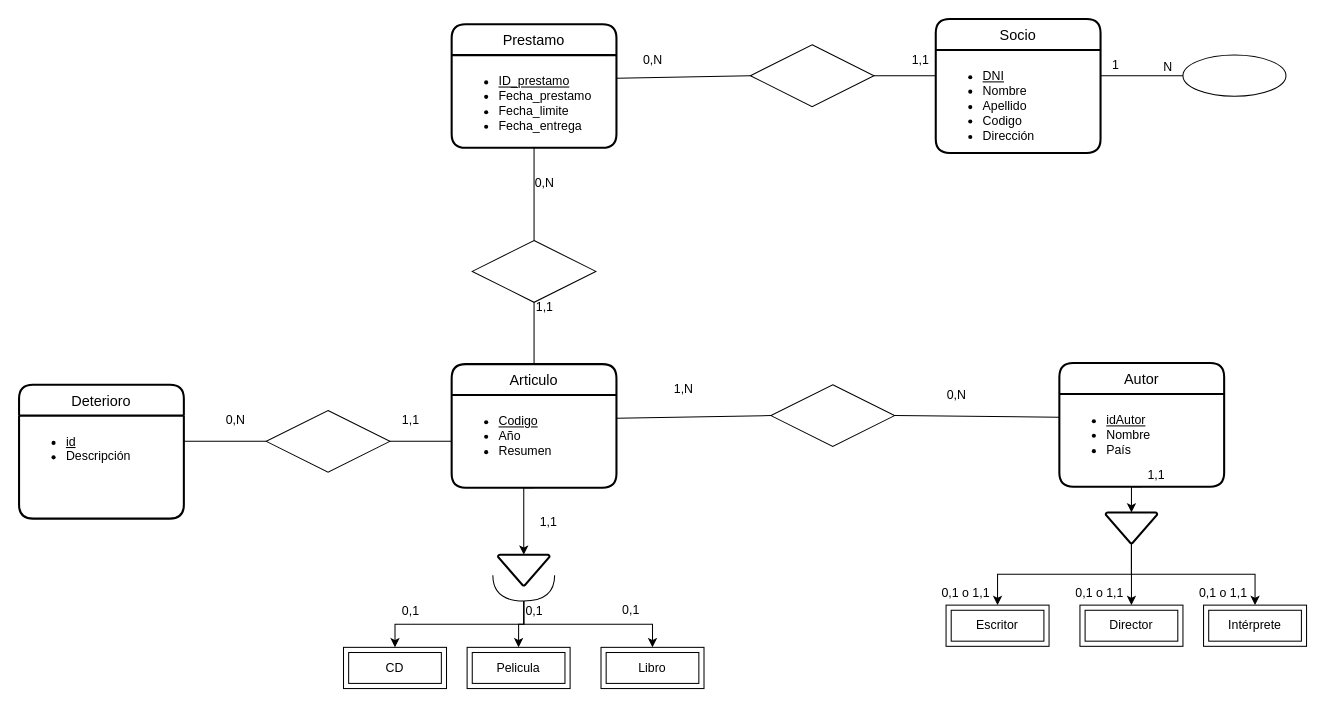
This 1325x707 diagram has some shape labels left out. Each missing label, with the centre of its shape:
"Crear" goes at [832,415].
"Deteriorado" goes at [327,440].
"Hacer" goes at [811,75].
"Prestado" goes at [533,270].
"Telefono" goes at [1234,75].
